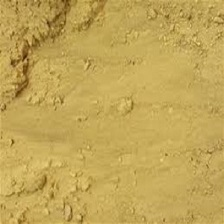sandy_soil: (8, 15, 211, 206)
